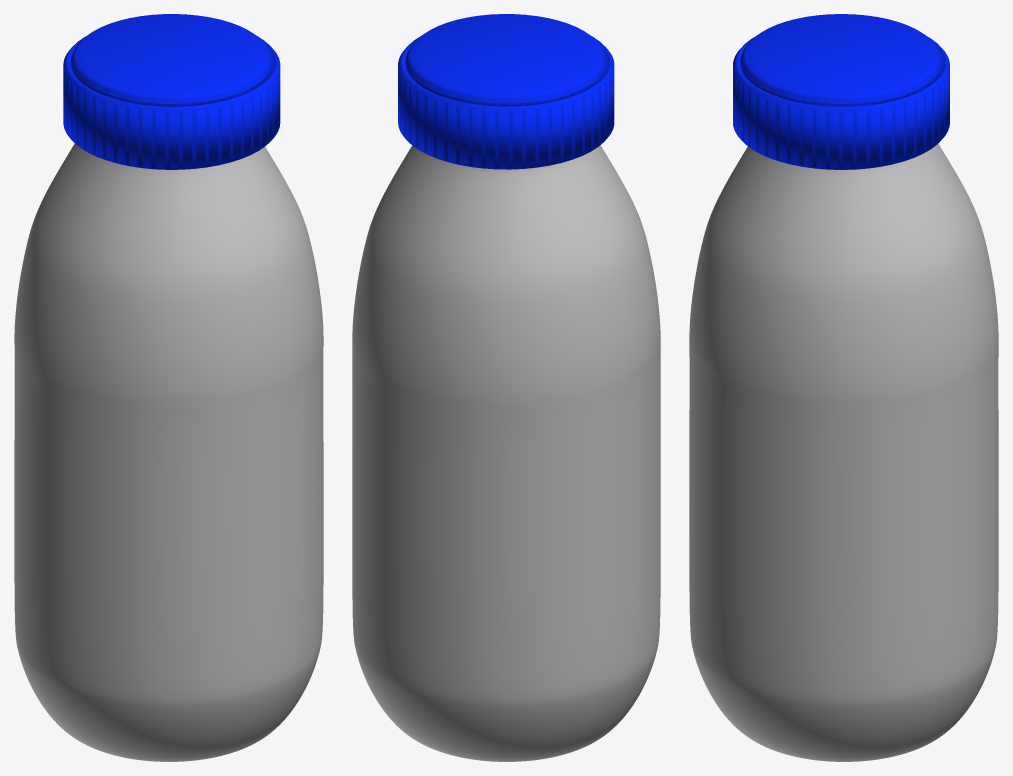
Rendered from lait-67d232715072b.glb.
3 renders of one model, left to right at view 1: azimuth 30°, elevation 25°; view 2: azimuth 150°, elevation 25°; view 3: azimuth 270°, elevation 25°, orthographic.
Parts seen in each view (by area): view 1: Object_3; view 2: Object_3; view 3: Object_3.
Boxes of the visible parts, x1,y1,x2,y2 form: Object_3: (14, 14, 323, 761); Object_3: (352, 14, 660, 761); Object_3: (689, 14, 998, 761).
Size of the model in its own units: 0.2845 by 0.6813 by 0.2845.
